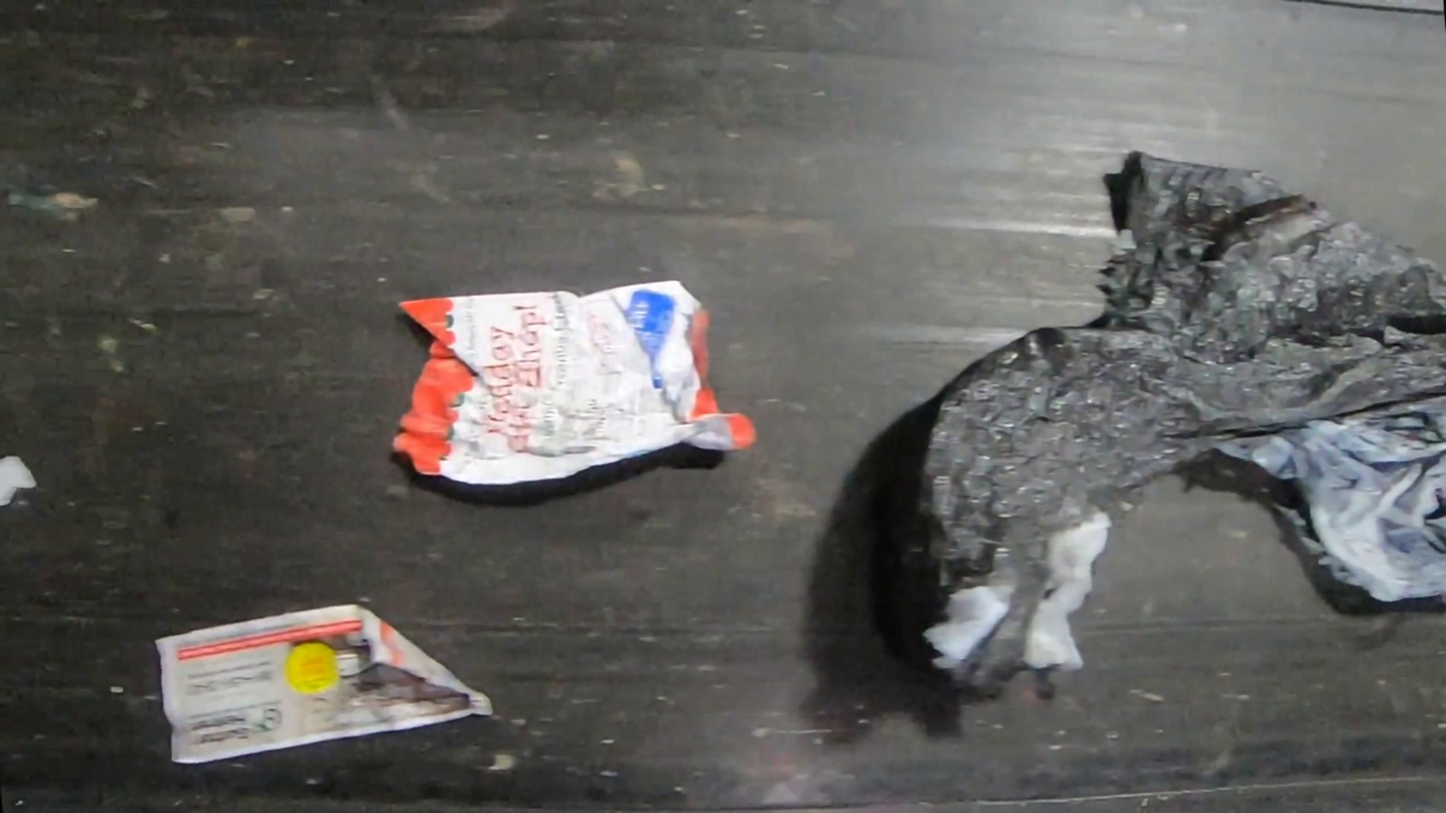plastic: (919, 149, 1446, 703)
